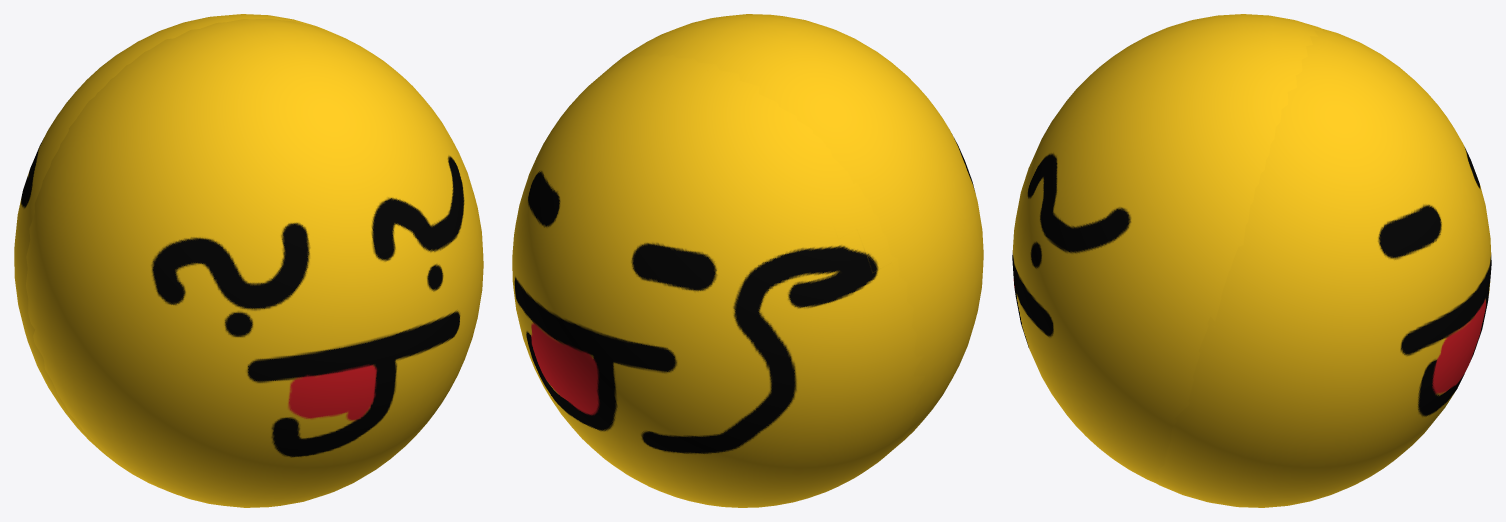
Rendered from jsEnemy.glb.
3 views of the same model, side by side, from view 1: azimuth 30°, elevation 25°; view 2: azimuth 150°, elevation 25°; view 3: azimuth 270°, elevation 25° (orthographic).
Parts seen in each view (by area): view 1: mesh_id41, mesh_id35; view 2: mesh_id35, mesh_id41; view 3: mesh_id35, mesh_id41.
Boxes of the visible parts, box(x1,y1,x2,y2) form: mesh_id41: box(26, 18, 483, 507); mesh_id35: box(14, 14, 340, 495); mesh_id35: box(512, 53, 924, 507); mesh_id41: box(603, 14, 983, 449); mesh_id35: box(1156, 28, 1491, 507); mesh_id41: box(1012, 14, 1322, 483).
Size of the model in its own units: 0.2002 by 0.2141 by 0.2059.
2 materials, 2 textured.
